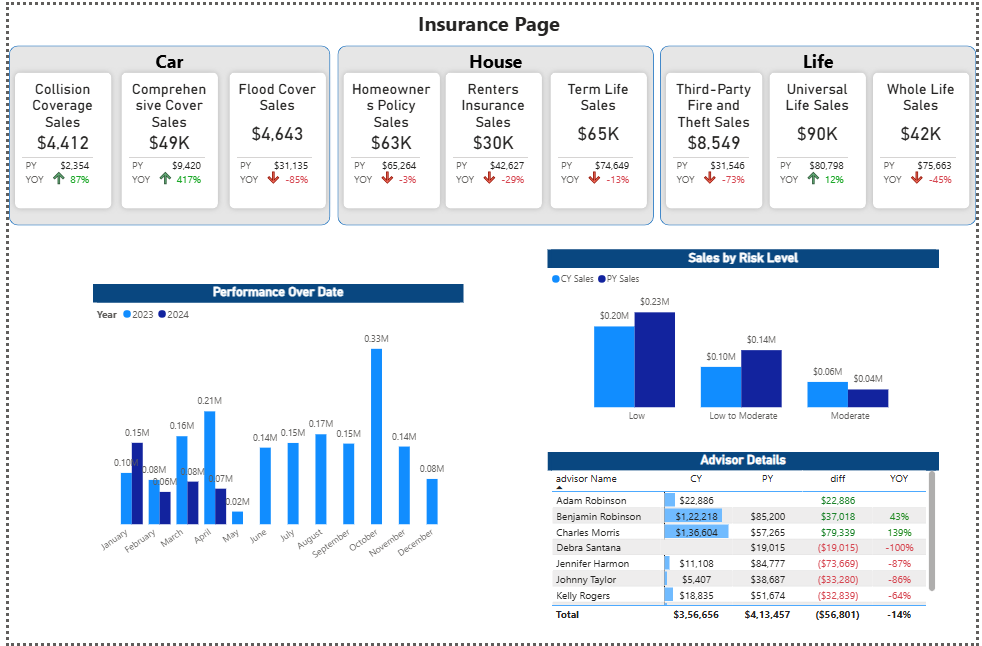

The dashboard page shown, as its layout file describes it:
{"tool":"powerbi","page":{"name":"Insurance","canvas":[1290,850],"ordinal":2},"visuals":[{"type":"shape","box":[868.3,53.3,421.7,240],"z":0},{"type":"shape","box":[438.3,53.3,421.7,240],"z":1000},{"type":"shape","box":[0,53.3,428.3,240],"z":2000},{"type":"shape","box":[438.3,81.7,144.5,197.2],"z":2250,"group":"g4"},{"type":"shape","box":[573.3,81.7,144.5,197.2],"z":2250,"group":"g5"},{"type":"shape","box":[868.3,81.7,144.5,197.2],"z":2250,"group":"g7"},{"type":"shape","box":[1005,81.7,144.5,197.2],"z":2250,"group":"g8"},{"type":"shape","box":[1143.3,81.7,144.5,197.2],"z":2250,"group":"g9"},{"type":"shape","box":[0,81.9,144.5,197.2],"z":2250,"group":"g1"},{"type":"shape","box":[142.7,81.9,144.5,197.2],"z":2250,"group":"g2"},{"type":"shape","box":[285.4,81.9,144.5,197.2],"z":2250,"group":"g3"},{"type":"shape","box":[713.5,81.9,144.5,197.2],"z":2250,"group":"g6"},{"type":"pivotTable","fields":{"Values":["Sales.PY Sales","Sales.YOY Sales"]},"box":[450.5,171,121.9,94],"z":2500,"group":"g4"},{"type":"pivotTable","fields":{"Values":["Sales.PY Sales","Sales.YOY Sales"]},"box":[585.5,171,121.9,94],"z":2500,"group":"g5"},{"type":"pivotTable","fields":{"Values":["Sales.PY Sales","Sales.YOY Sales"]},"box":[880.5,171,121.9,94],"z":2500,"group":"g7"},{"type":"pivotTable","fields":{"Values":["Sales.PY Sales","Sales.YOY Sales"]},"box":[1017.2,171,121.9,94],"z":2500,"group":"g8"},{"type":"pivotTable","fields":{"Values":["Sales.PY Sales","Sales.YOY Sales"]},"box":[1155.5,171,121.9,94],"z":2500,"group":"g9"},{"type":"pivotTable","fields":{"Values":["Sales.PY Sales","Sales.YOY Sales"]},"box":[12.2,171.2,121.9,94],"z":2500,"group":"g1"},{"type":"pivotTable","fields":{"Values":["Sales.PY Sales","Sales.YOY Sales"]},"box":[154.9,171.2,121.9,94],"z":2500,"group":"g2"},{"type":"pivotTable","fields":{"Values":["Sales.PY Sales","Sales.YOY Sales"]},"box":[297.6,171.2,121.9,94],"z":2500,"group":"g3"},{"type":"pivotTable","fields":{"Values":["Sales.PY Sales","Sales.YOY Sales"]},"box":[725.7,171.2,121.9,94],"z":2500,"group":"g6"},{"type":"textbox","box":[0,0,1280,50],"z":3000},{"type":"card","fields":{"Values":["Sales.CY Sales"]},"box":[453.1,100.1,114.9,97.7],"z":3000,"group":"g4"},{"type":"card","fields":{"Values":["Sales.CY Sales"]},"box":[588.1,100.1,114.9,97.7],"z":3000,"group":"g5"},{"type":"card","fields":{"Values":["Sales.CY Sales"]},"box":[883.1,100.1,114.9,97.7],"z":3000,"group":"g7"},{"type":"card","fields":{"Values":["Sales.CY Sales"]},"box":[1019.8,100.1,114.9,97.7],"z":3000,"group":"g8"},{"type":"card","fields":{"Values":["Sales.CY Sales"]},"box":[1158.1,100.1,114.9,97.7],"z":3000,"group":"g9"},{"type":"card","fields":{"Values":["Sales.CY Sales"]},"box":[14.8,100.3,114.9,97.7],"z":3000,"group":"g1"},{"type":"card","fields":{"Values":["Sales.CY Sales"]},"box":[157.5,100.3,114.9,97.7],"z":3000,"group":"g2"},{"type":"card","fields":{"Values":["Sales.CY Sales"]},"box":[300.2,100.3,114.9,97.7],"z":3000,"group":"g3"},{"type":"card","fields":{"Values":["Sales.CY Sales"]},"box":[728.3,100.3,114.9,97.7],"z":3000,"group":"g6"},{"type":"group","id":"g1","title":"Group 1","box":[0,81.9,145,196.7],"z":4000},{"type":"group","id":"g2","title":"Group 1","box":[142.7,81.9,145,196.7],"z":5000},{"type":"group","id":"g3","title":"Group 1","box":[285.4,81.9,145,196.7],"z":6000},{"type":"group","id":"g4","title":"Group 1","box":[438.3,81.7,145,196.7],"z":7000},{"type":"group","id":"g5","title":"Group 1","box":[573.3,81.7,145,196.7],"z":8000},{"type":"group","id":"g6","title":"Group 1","box":[713.5,81.9,145,196.7],"z":9000},{"type":"group","id":"g7","title":"Group 1","box":[868.3,81.7,145,196.7],"z":10000},{"type":"group","id":"g8","title":"Group 1","box":[1005,81.7,145,196.7],"z":11000},{"type":"group","id":"g9","title":"Group 1","box":[1143.3,81.7,145,196.7],"z":12000},{"type":"clusteredColumnChart","title":"Performance Over Date","fields":{"Category":["Sales.record_date.Variation.Date Hierarchy.Month"],"Y":["Sum(Sales.sales_amount)"],"Series":["Sales.record_date.Variation.Date Hierarchy.Year"]},"box":[112,372,494,388],"z":13000},{"type":"clusteredColumnChart","title":"Sales by Risk Level","fields":{"Category":["Product.product_risk_level"],"Y":["Sales.CY Sales","Sales.PY Sales"]},"box":[718,326,522,240],"z":14000},{"type":"tableEx","title":"Advisor Details","fields":{"Values":["Advisor.advisor_name","options.CY","options.PY","options.diff","options.YOY"]},"box":[718,596,522,230],"z":15000}]}

Visuals, with their boxes in screenshot pixels (x1, y1, x2, y2), scaled from the page's 1290x850 canvas onto the 982x646 screenshot:
shape: [661, 41, 981, 223]
shape: [334, 41, 655, 223]
shape: [0, 41, 326, 223]
shape: [334, 62, 444, 212]
shape: [436, 62, 546, 212]
shape: [661, 62, 771, 212]
shape: [765, 62, 875, 212]
shape: [870, 62, 980, 212]
shape: [0, 62, 110, 212]
shape: [109, 62, 219, 212]
shape: [217, 62, 327, 212]
shape: [543, 62, 653, 212]
pivotTable - Sales.PY Sales x Sales.YOY Sales: [343, 130, 436, 201]
pivotTable - Sales.PY Sales x Sales.YOY Sales: [446, 130, 539, 201]
pivotTable - Sales.PY Sales x Sales.YOY Sales: [670, 130, 763, 201]
pivotTable - Sales.PY Sales x Sales.YOY Sales: [774, 130, 867, 201]
pivotTable - Sales.PY Sales x Sales.YOY Sales: [880, 130, 972, 201]
pivotTable - Sales.PY Sales x Sales.YOY Sales: [9, 130, 102, 202]
pivotTable - Sales.PY Sales x Sales.YOY Sales: [118, 130, 211, 202]
pivotTable - Sales.PY Sales x Sales.YOY Sales: [227, 130, 319, 202]
pivotTable - Sales.PY Sales x Sales.YOY Sales: [552, 130, 645, 202]
textbox: [0, 0, 974, 38]
card - Sales.CY Sales: [345, 76, 432, 150]
card - Sales.CY Sales: [448, 76, 535, 150]
card - Sales.CY Sales: [672, 76, 760, 150]
card - Sales.CY Sales: [776, 76, 864, 150]
card - Sales.CY Sales: [882, 76, 969, 150]
card - Sales.CY Sales: [11, 76, 99, 150]
card - Sales.CY Sales: [120, 76, 207, 150]
card - Sales.CY Sales: [229, 76, 316, 150]
card - Sales.CY Sales: [554, 76, 642, 150]
"Group 1" group: [0, 62, 110, 212]
"Group 1" group: [109, 62, 219, 212]
"Group 1" group: [217, 62, 328, 212]
"Group 1" group: [334, 62, 444, 212]
"Group 1" group: [436, 62, 547, 212]
"Group 1" group: [543, 62, 654, 212]
"Group 1" group: [661, 62, 771, 212]
"Group 1" group: [765, 62, 875, 212]
"Group 1" group: [870, 62, 981, 212]
"Performance Over Date" clusteredColumnChart: [85, 283, 461, 578]
"Sales by Risk Level" clusteredColumnChart: [547, 248, 944, 430]
"Advisor Details" tableEx: [547, 453, 944, 628]
